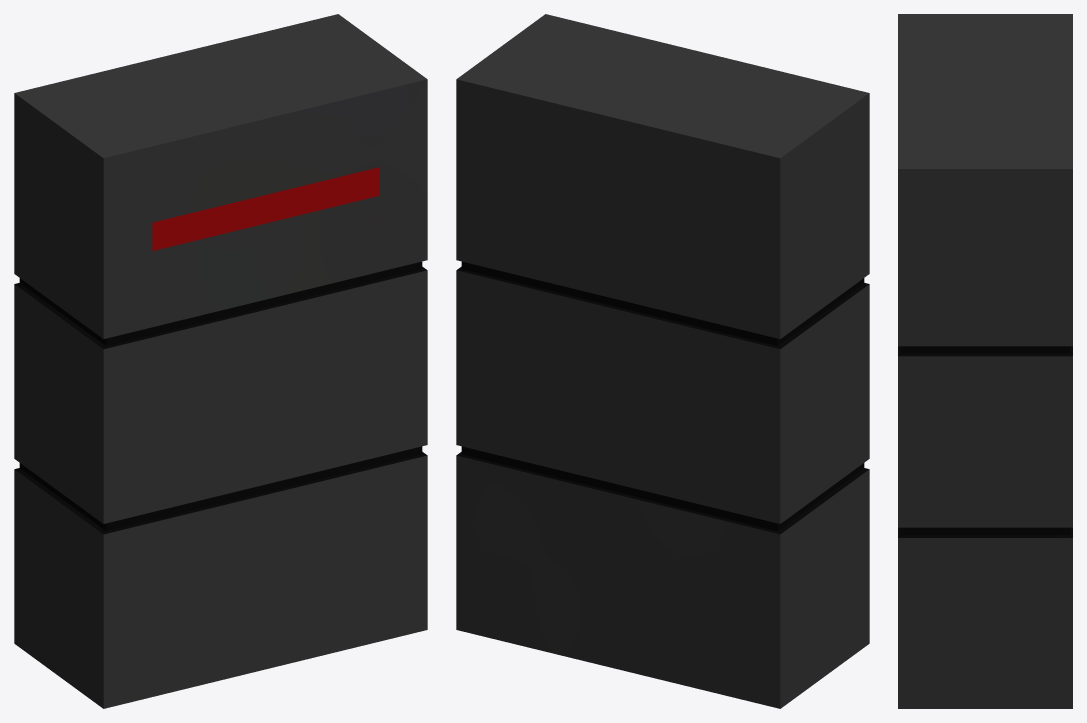
3 views of the same model, side by side, from view 1: azimuth 30°, elevation 25°; view 2: azimuth 150°, elevation 25°; view 3: azimuth 270°, elevation 25° (orthographic).
Parts seen in each view (by area): view 1: Lo-Body_01; view 2: Lo-Body_01; view 3: Lo-Body_01.
Part boxes in pixels (box(x1,y1,x2,y2)): Lo-Body_01: box(14, 14, 427, 708); Lo-Body_01: box(456, 14, 869, 708); Lo-Body_01: box(898, 14, 1072, 708).
Bounding box in the file's own units: 0.0661 × 0.1074 × 0.0315.
Materials: 1 (1 with a texture image).
